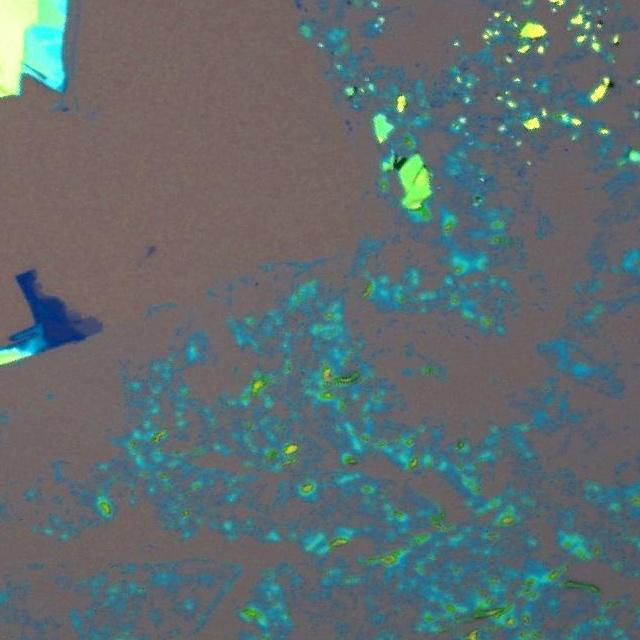monolayer-eWW4: (66, 306, 102, 336), (32, 281, 46, 299)
